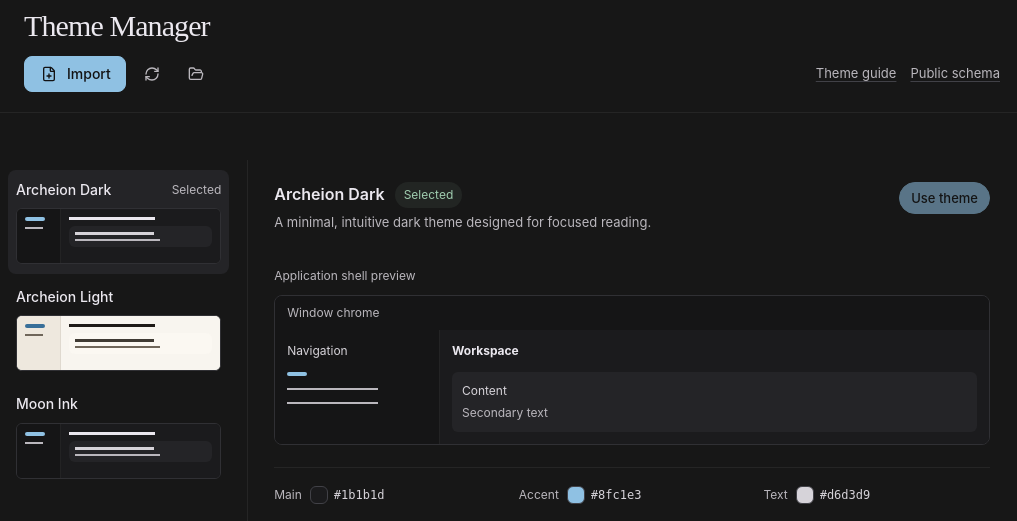
Scenario: ThemeManagerSurface preview ownership › shows the resolved light built-in shell without starting a temporary preview
This screenshot has width=1017, height=521.
What coordinates should you click on to do the following:
click the button "Archeion Light"
I would click on:
 (119, 329)
Its box is [8,277,229,381].
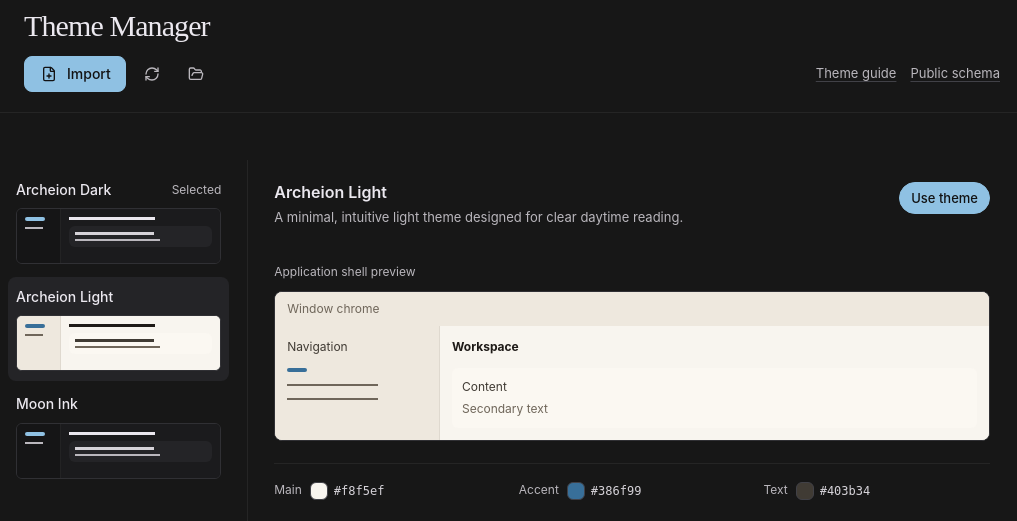
Check: the text "#f8f5ef" is shown, box [334,482,384,500]
Check: the text "#403b34" is shown, box [820,482,870,500]
Check: the text "#386f99" is shown, box [591,482,641,500]
